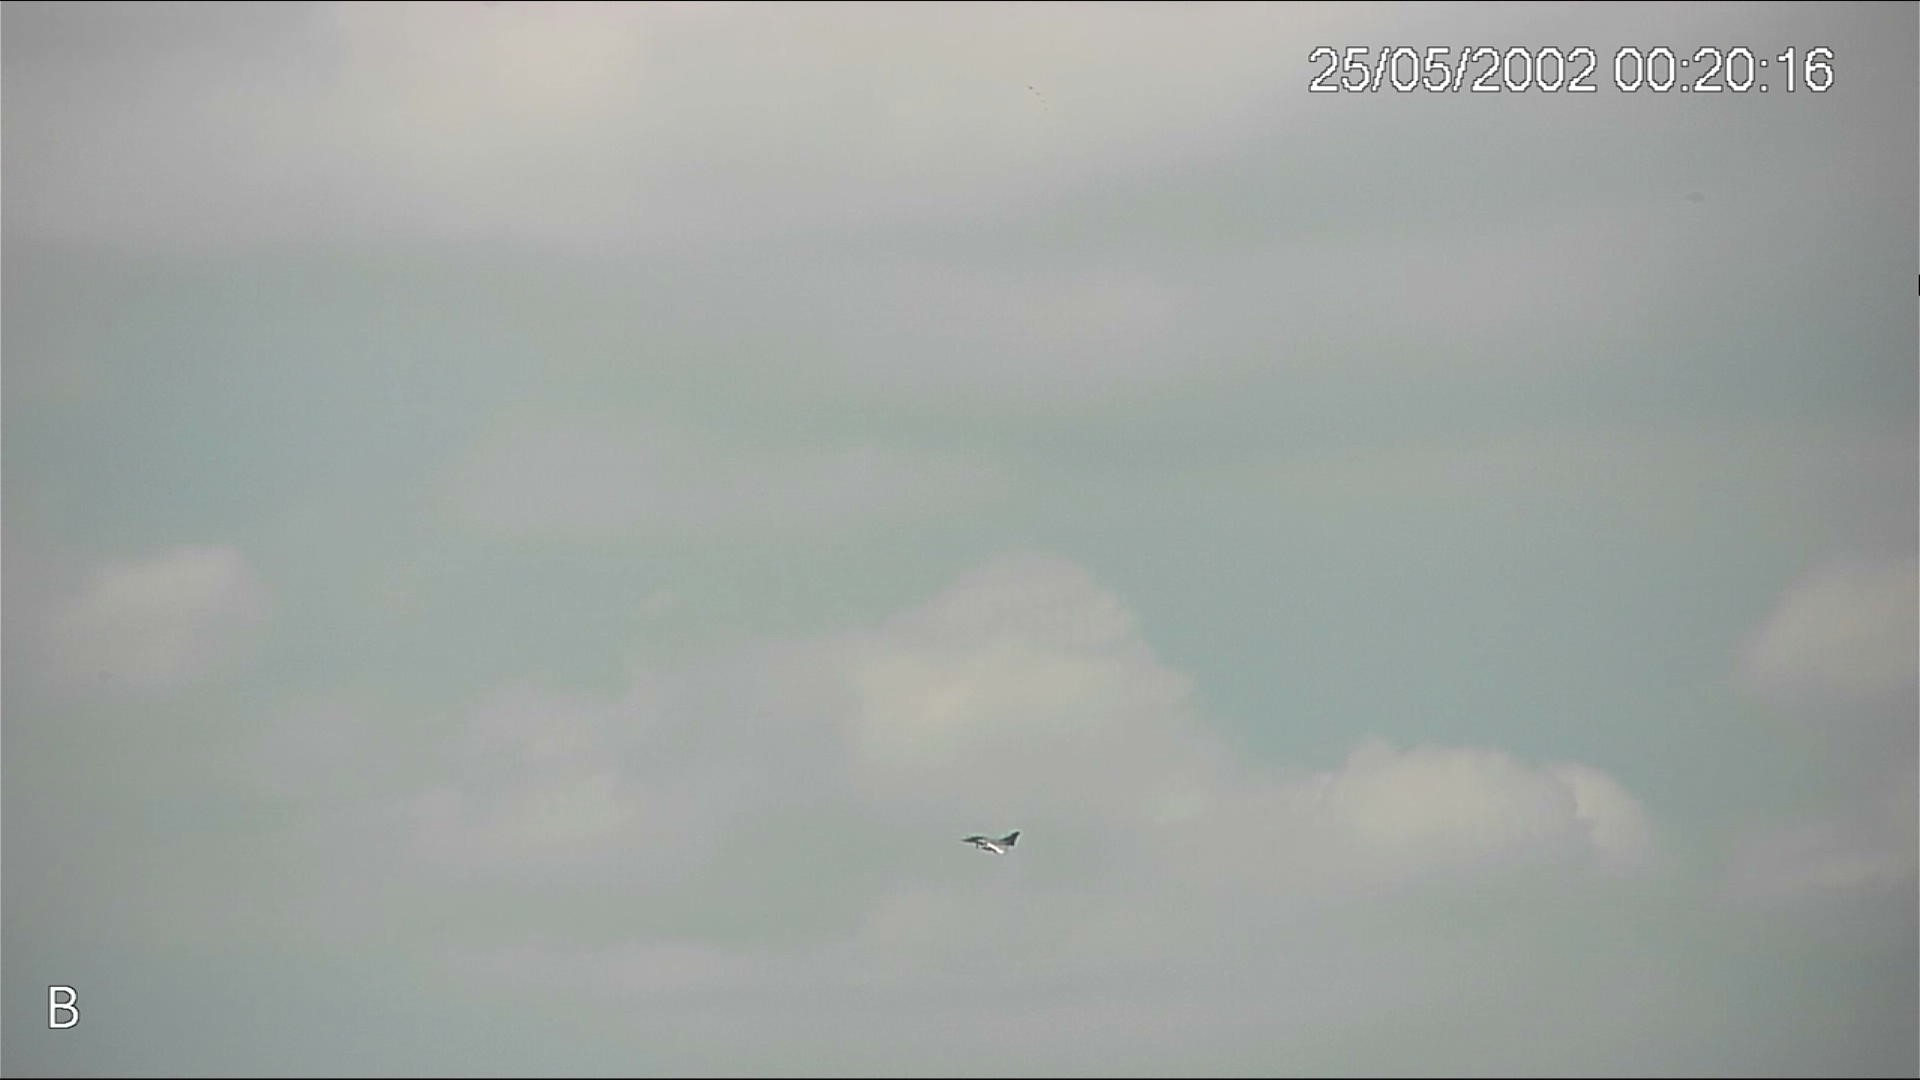SU_30: (961, 829, 1025, 858)
